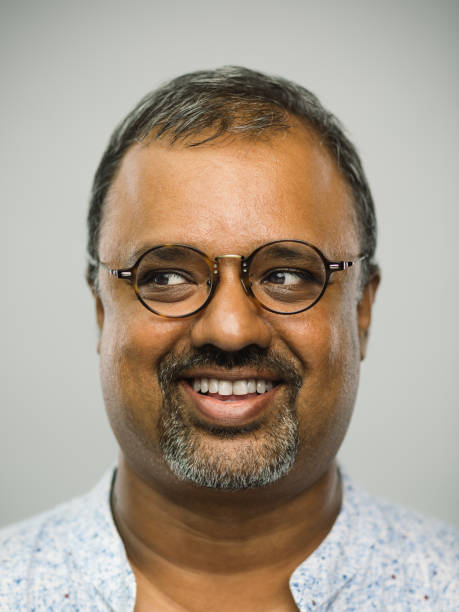face: (114, 168, 356, 489)
